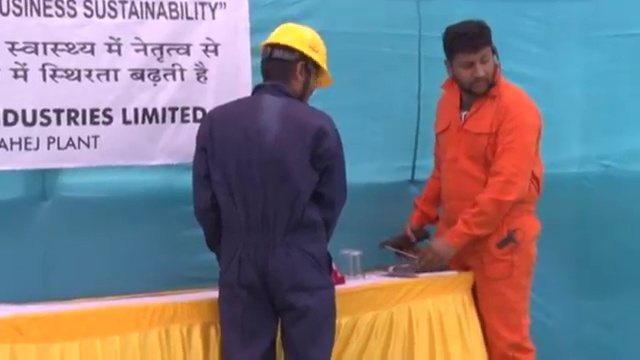helmet: (261, 20, 333, 87)
helmet_off: (441, 19, 502, 97)
helmet_on: (261, 20, 333, 104)
person: (189, 21, 347, 360), (404, 19, 545, 360)
